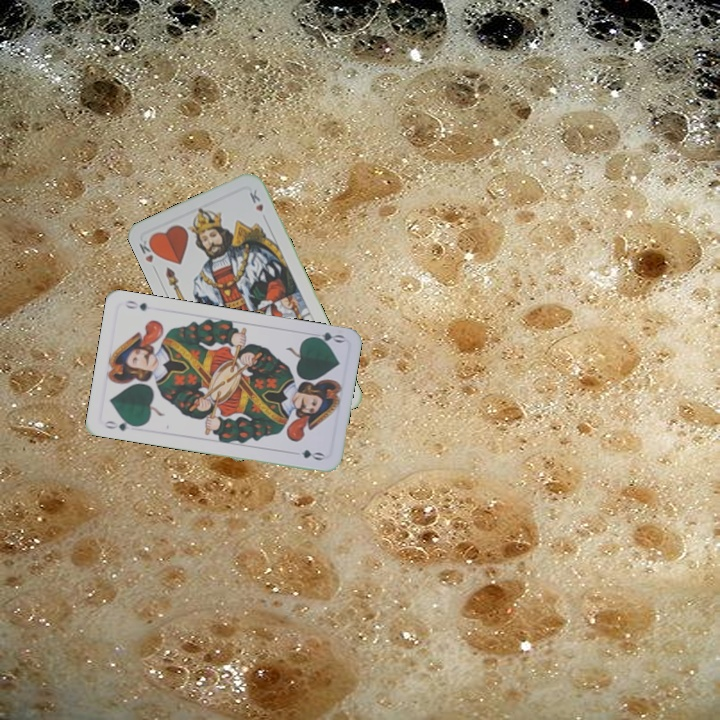GO: (305, 328, 346, 347), (100, 416, 141, 434)
HK: (135, 235, 161, 275)
